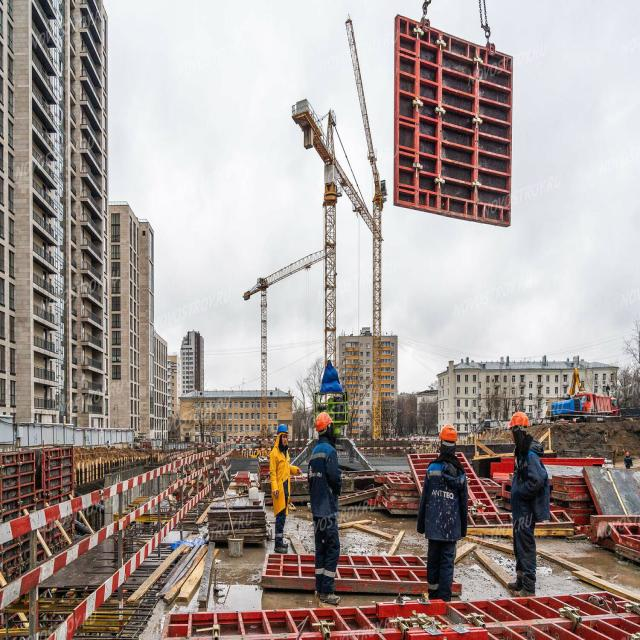Helmet: (316, 414, 337, 434), (508, 413, 531, 431), (439, 424, 459, 444), (279, 426, 291, 436)
NoJacket: (429, 455, 461, 542), (313, 442, 338, 532), (513, 440, 541, 518), (272, 441, 290, 507)
